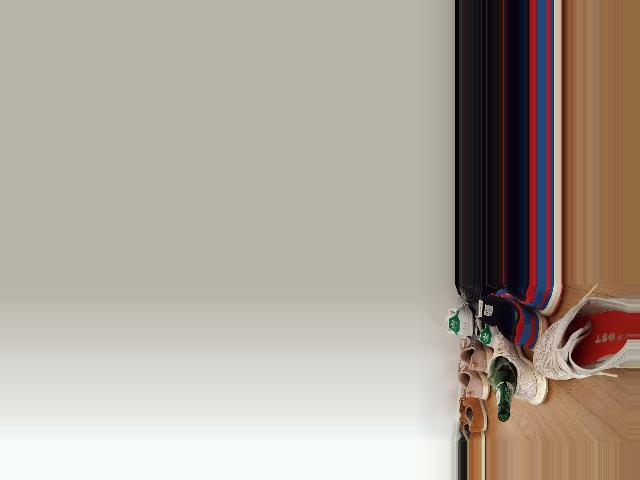beer: (493, 356, 517, 422)
